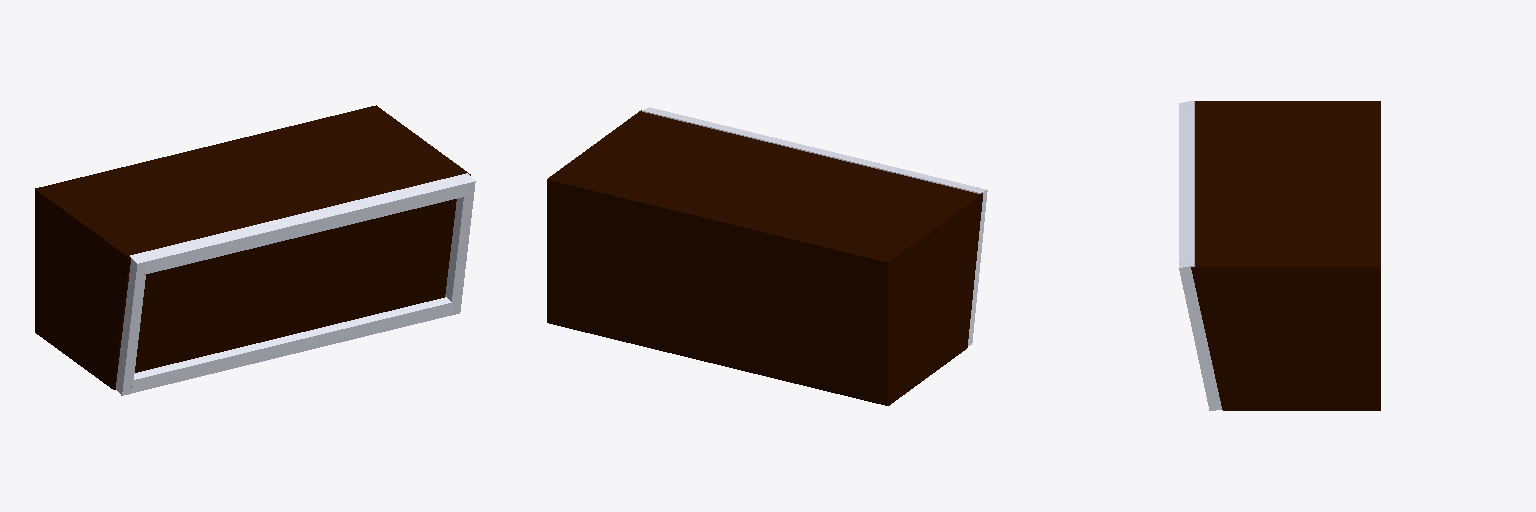
The model's file is Clock.obj.
The picture shows the model from 3 angles: view 1: azimuth 30°, elevation 25°; view 2: azimuth 150°, elevation 25°; view 3: azimuth 270°, elevation 25°; orthographic projection.
Visible parts, largest first — view 1: mergedBlocks; view 2: mergedBlocks; view 3: mergedBlocks.
Part boxes in pixels (x1,y1,x2,y2): mergedBlocks: (35, 105, 475, 395); mergedBlocks: (547, 107, 987, 405); mergedBlocks: (1179, 101, 1380, 410).
Size of the model in its own units: 0.747 by 0.3051 by 0.383.